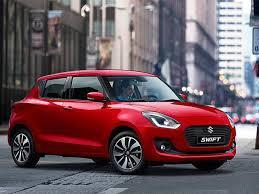Hatchback: (7, 70, 238, 174)
